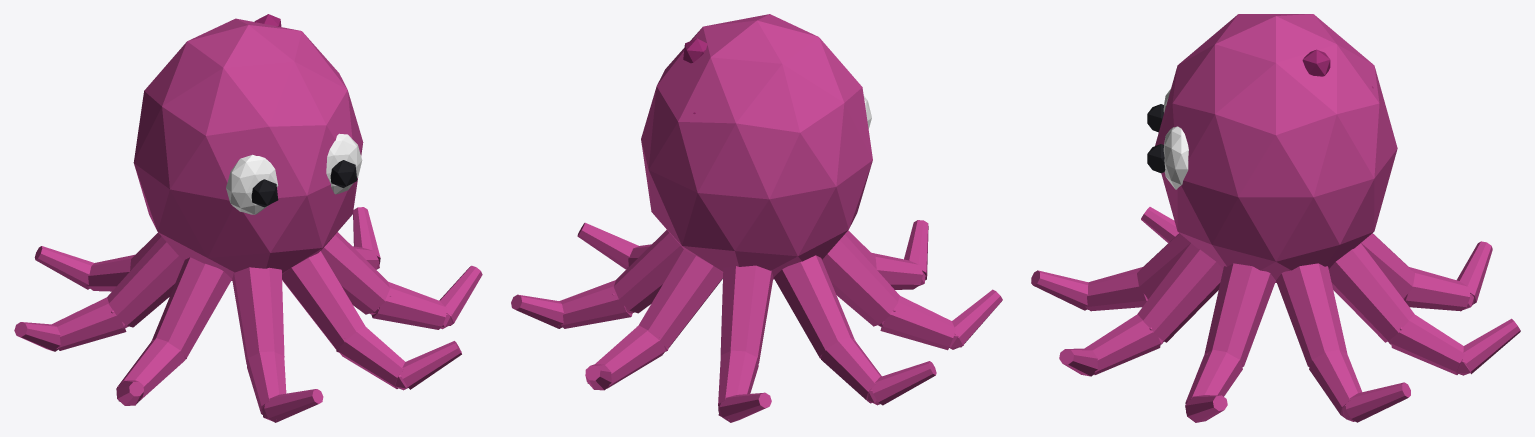
Rendered from Octopus.fbx.
3 renders of one model, left to right at view 1: azimuth 30°, elevation 25°; view 2: azimuth 150°, elevation 25°; view 3: azimuth 270°, elevation 25°, orthographic. The views are drawn at different scales.
Visible parts, largest first — view 1: Skin, EyeWhites, Eyes; view 2: Skin; view 3: Skin, EyeWhites, Eyes, Spots.
Boxes of the visible parts, x1=… form: Skin: x1=14, y1=18, x2=482, y2=422; EyeWhites: x1=226, y1=133, x2=362, y2=214; Eyes: x1=251, y1=160, x2=357, y2=207; Skin: x1=511, y1=14, x2=1002, y2=422; Skin: x1=1031, y1=14, x2=1520, y2=422; EyeWhites: x1=1163, y1=89, x2=1188, y2=189; Eyes: x1=1147, y1=104, x2=1165, y2=173; Spots: x1=1302, y1=49, x2=1373, y2=87.
Size of the model in its own units: 3.62 by 2.67 by 3.62.
